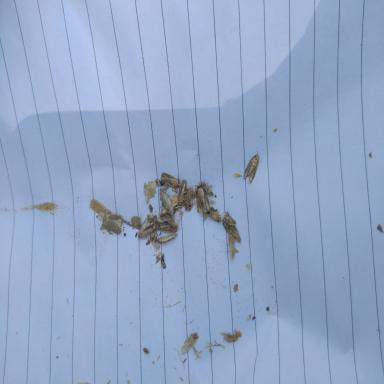pbw: (160, 195, 186, 217), (243, 150, 259, 184), (194, 184, 211, 214), (222, 218, 241, 244), (138, 215, 159, 238), (206, 204, 223, 224), (177, 180, 190, 206), (160, 172, 180, 188), (150, 214, 159, 243), (154, 233, 178, 243), (158, 223, 179, 232), (163, 214, 177, 227)
